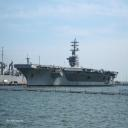Portanaves: (14, 38, 121, 88)
